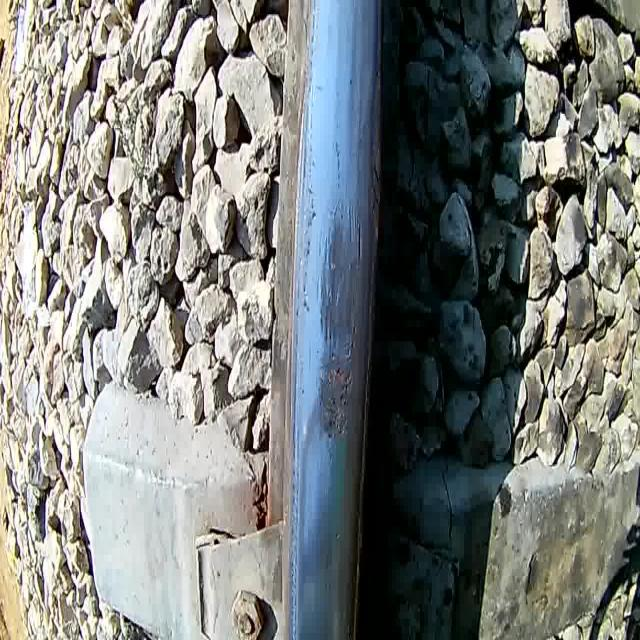Cracks: (352, 208, 364, 285), (346, 311, 359, 364)
Squats: (314, 192, 367, 452)
